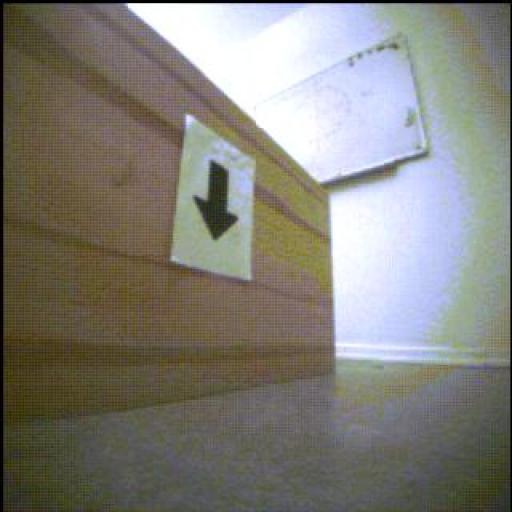Arrow: (195, 161, 240, 241)
